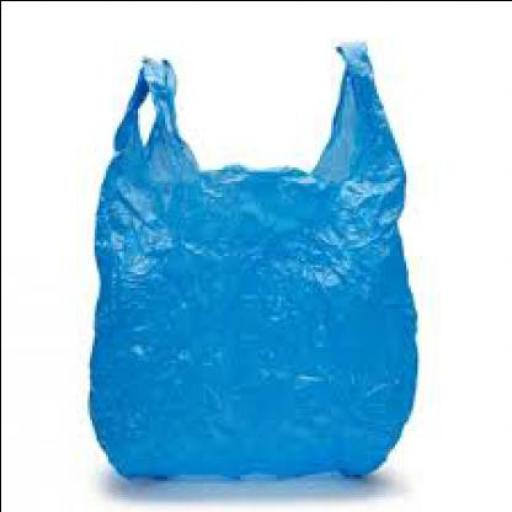plastic: (91, 37, 419, 480)
